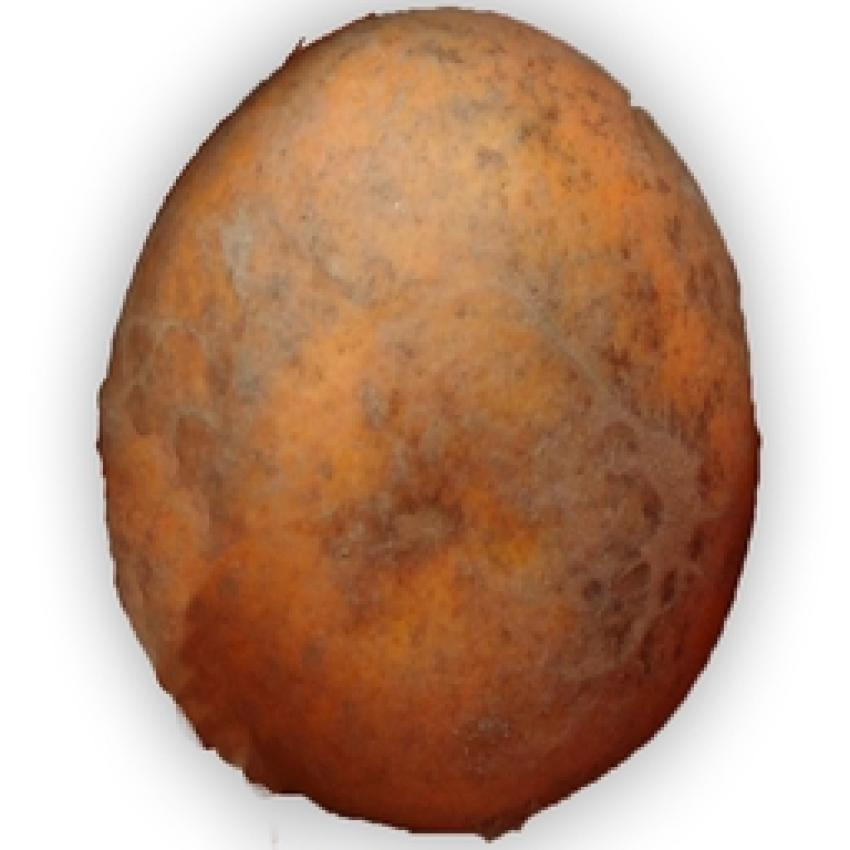Mal estado: (58, 0, 777, 845)
